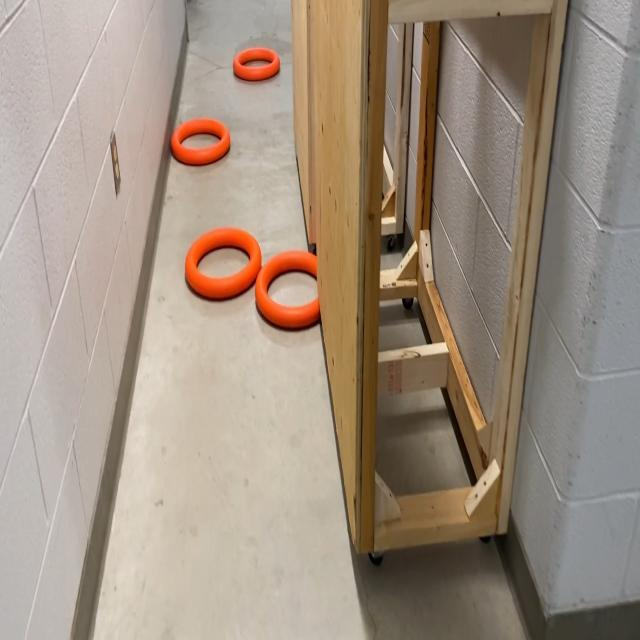note: (185, 227, 260, 303), (256, 251, 321, 331), (171, 117, 230, 169), (234, 44, 280, 82)
